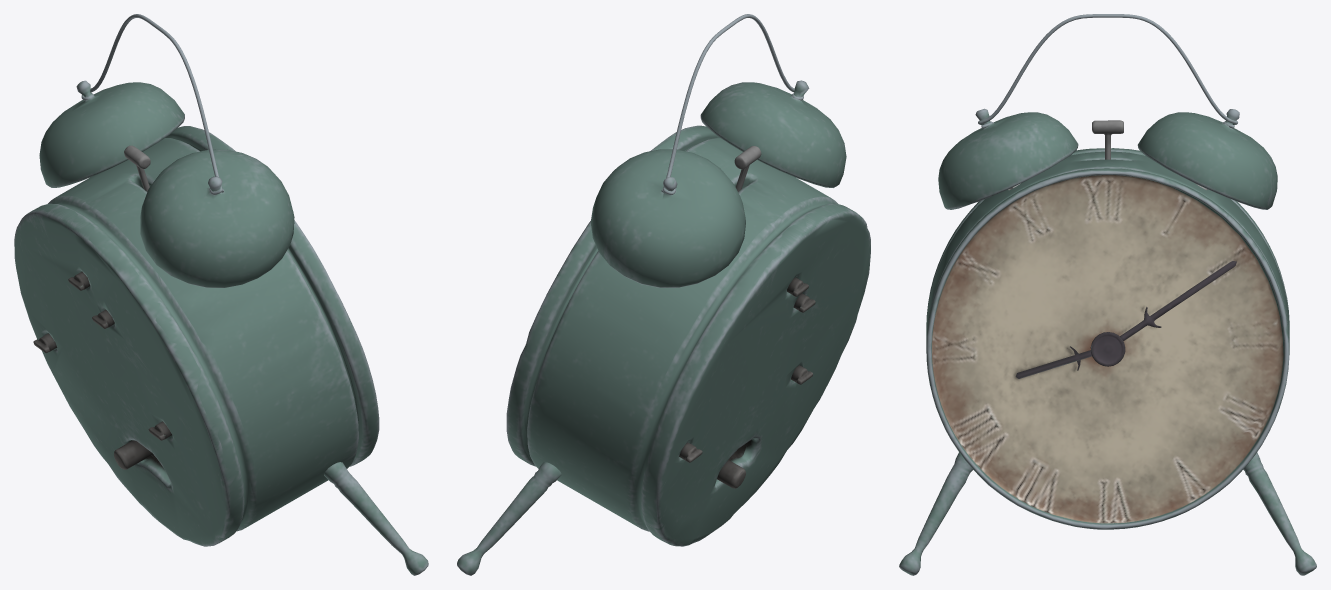
File: uploads_files_4130991_alarm_clock.fbx
3 views of the same model, side by side, from view 1: azimuth 30°, elevation 25°; view 2: azimuth 150°, elevation 25°; view 3: azimuth 270°, elevation 25° (orthographic). The views are drawn at different scales.
Parts seen in each view (by area): view 1: body_low, bell_low, holders_low, supports_low, tumbler1_low, hammer_low; view 2: body_low, bell_low, holders_low, supports_low, hammer_low, tumbler1_low; view 3: body_low, bell_low, holders_low, supports_low, arrow2_low, holder_arrows, arrow1_low, hammer_low.
Boxes of the visible parts, box(x1,y1,x2,y2) form: body_low: box(14, 126, 379, 546); bell_low: box(39, 80, 294, 287); holders_low: box(324, 462, 428, 575); supports_low: box(81, 14, 223, 194); tumbler1_low: box(114, 440, 152, 469); hammer_low: box(124, 145, 150, 191); body_low: box(506, 125, 870, 546); bell_low: box(590, 80, 846, 287); holders_low: box(457, 462, 561, 575); supports_low: box(661, 14, 803, 194); hammer_low: box(734, 146, 761, 191); tumbler1_low: box(717, 460, 745, 488); body_low: box(926, 148, 1289, 529); bell_low: box(938, 108, 1277, 209); holders_low: box(899, 452, 1316, 575); supports_low: box(978, 14, 1237, 128); arrow2_low: box(1120, 261, 1236, 340); holder_arrows: box(1090, 332, 1125, 366); arrow1_low: box(1015, 346, 1091, 378); hammer_low: box(1092, 120, 1123, 159).
Bounding box in the file's own units: 241 × 467 × 362.
